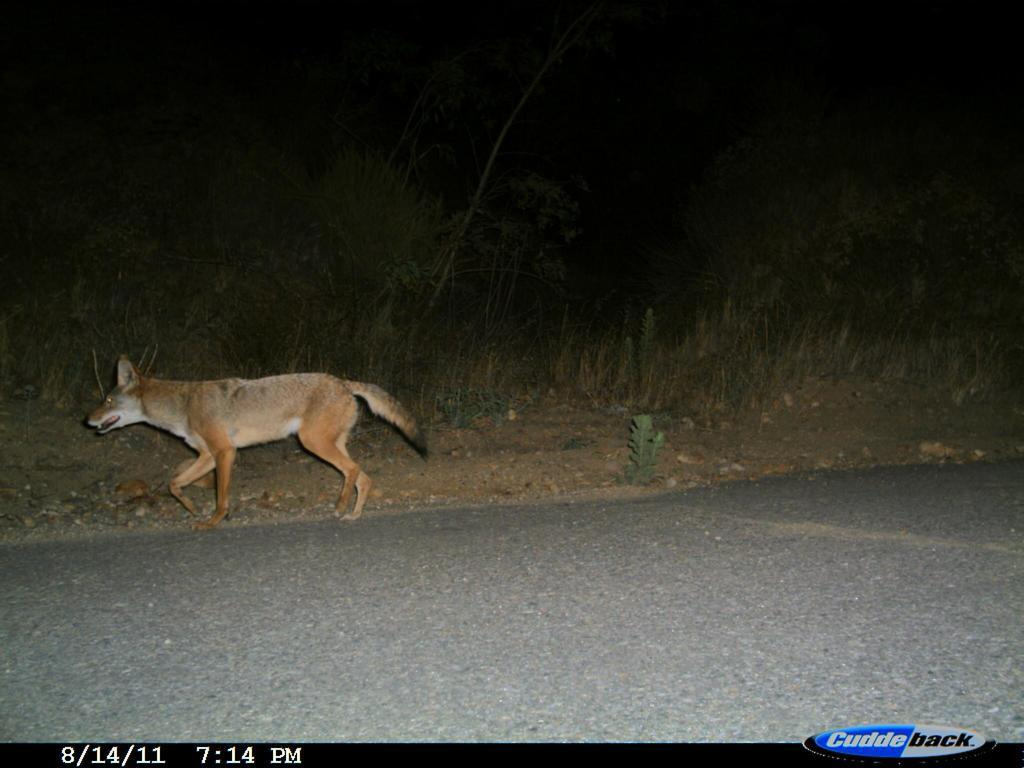coyote: (85, 350, 434, 525)
